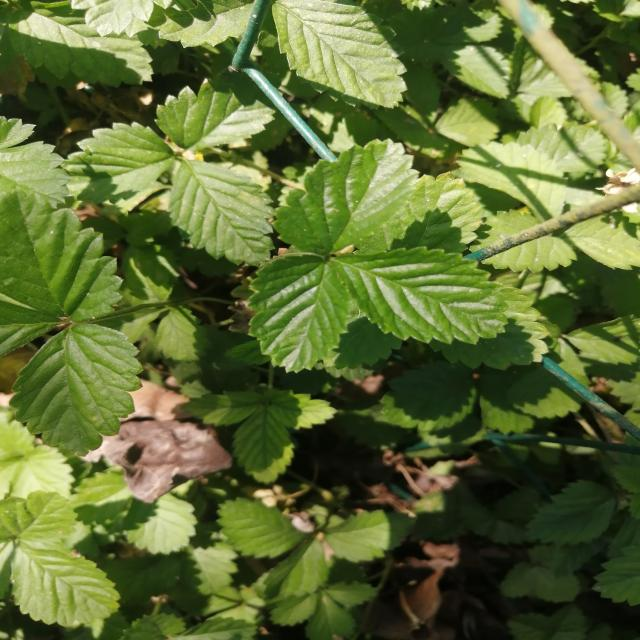Mock_strawberry: (0, 195, 183, 477), (278, 161, 507, 367), (84, 79, 344, 249)
